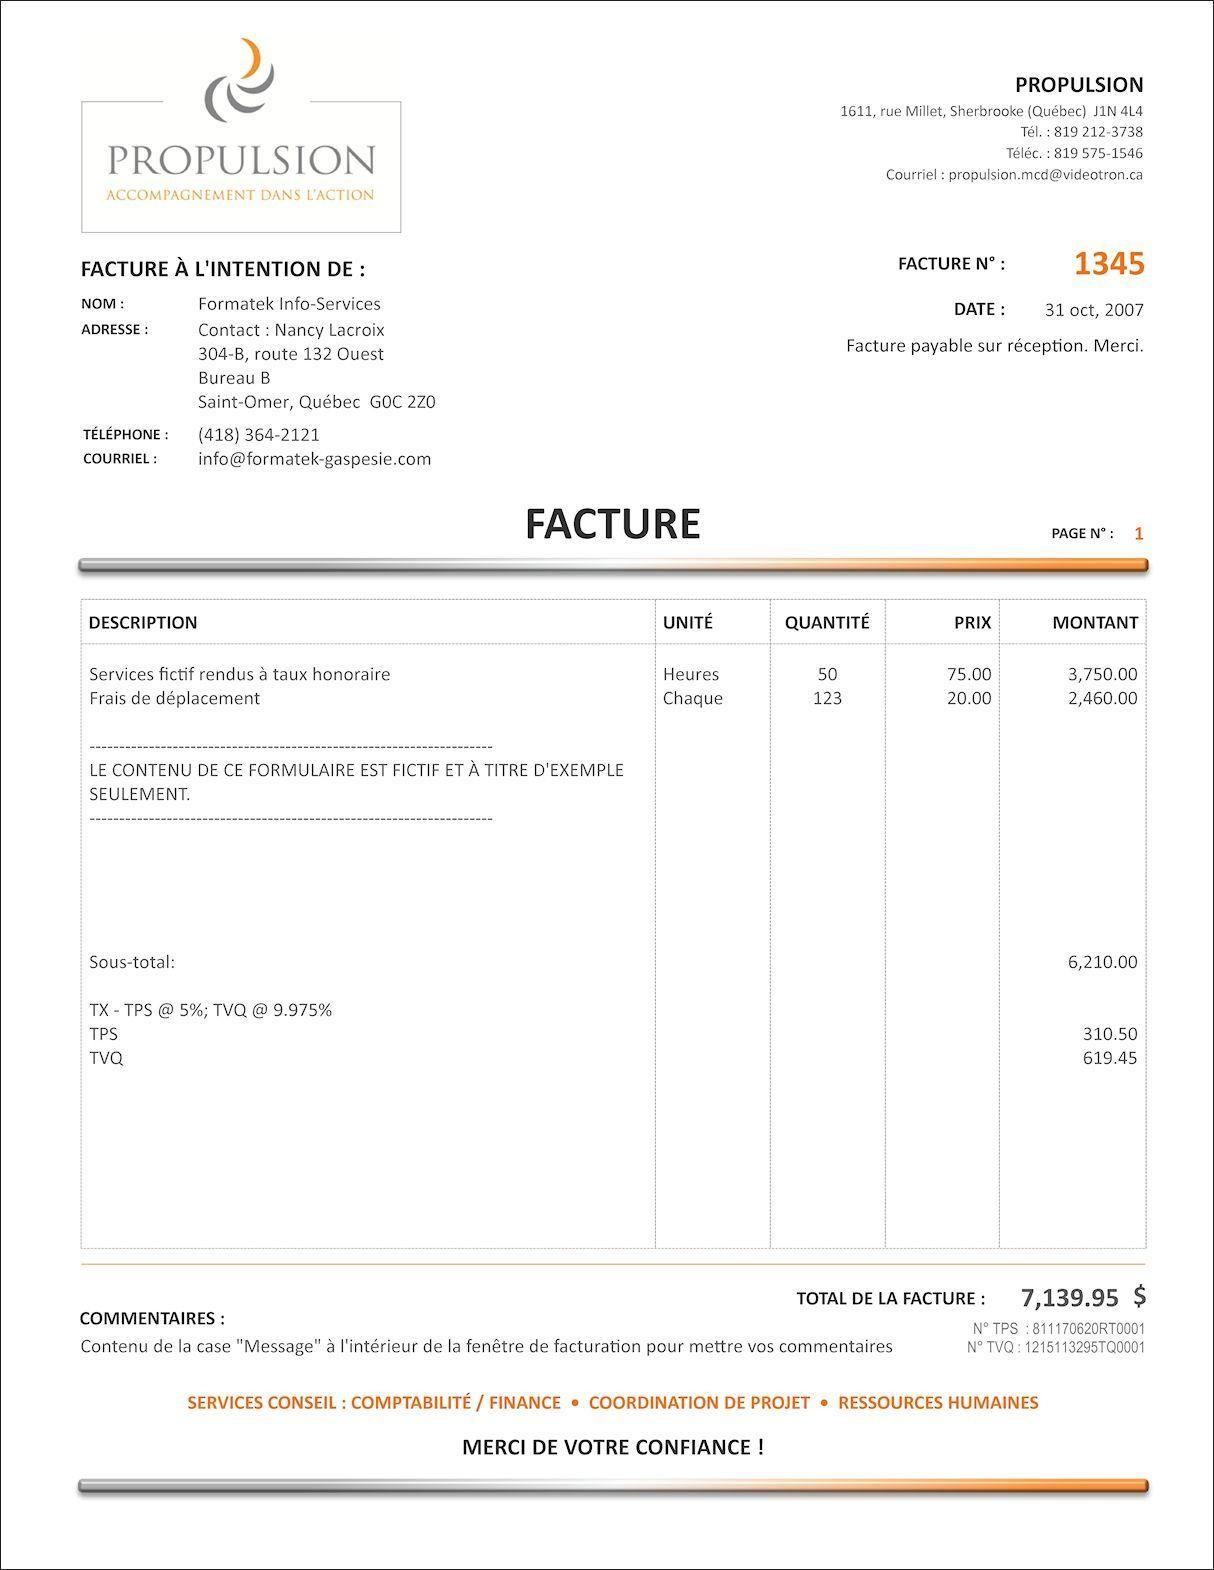ROI: (81, 603, 1145, 1251), (75, 255, 448, 482), (832, 234, 1152, 368), (832, 74, 1158, 193), (791, 1275, 1154, 1317)
